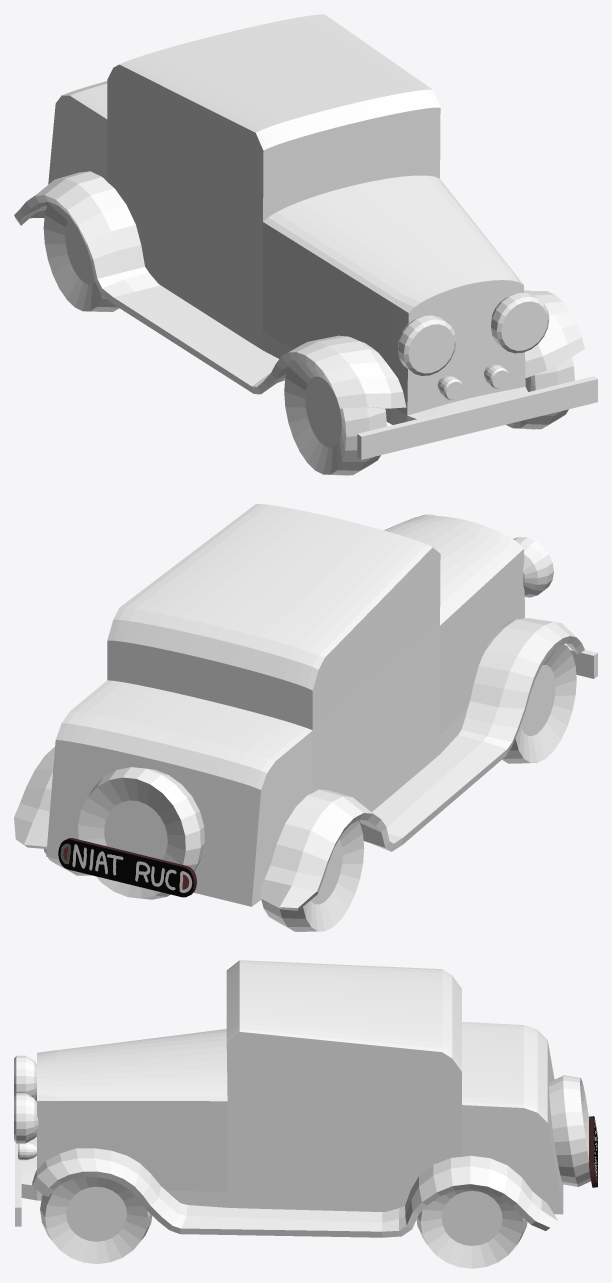
Rendered from bentley.glb.
The picture shows the model from 3 angles, top to bottom: view 1: azimuth 30°, elevation 25°; view 2: azimuth 150°, elevation 25°; view 3: azimuth 270°, elevation 25°; orthographic projection. The views are drawn at different scales.
Parts seen in each view (by area): view 1: body, side, tire, front, lights; view 2: body, side, tire, panel, lights, front; view 3: body, tire, side, lights, panel, front.
Part boxes in pixels (x1,y1,x2,y2): body: (48,14,527,424); side: (14,171,584,408); tire: (43,202,574,475); front: (357,376,597,459); lights: (398,292,549,400); body: (46,504,524,906); side: (14,618,584,910); tire: (43,644,576,931); panel: (58,838,196,897); lights: (419,514,553,597); front: (566,645,597,678); body: (21,960,563,1214); tire: (40,1075,590,1268); side: (32,1097,558,1237); lights: (14,1055,38,1160); panel: (589,1116,597,1187); front: (15,1142,21,1226).
Bounding box in the file's own units: 6.97 × 6.13 × 14.02.
5 materials, 1 textured.
